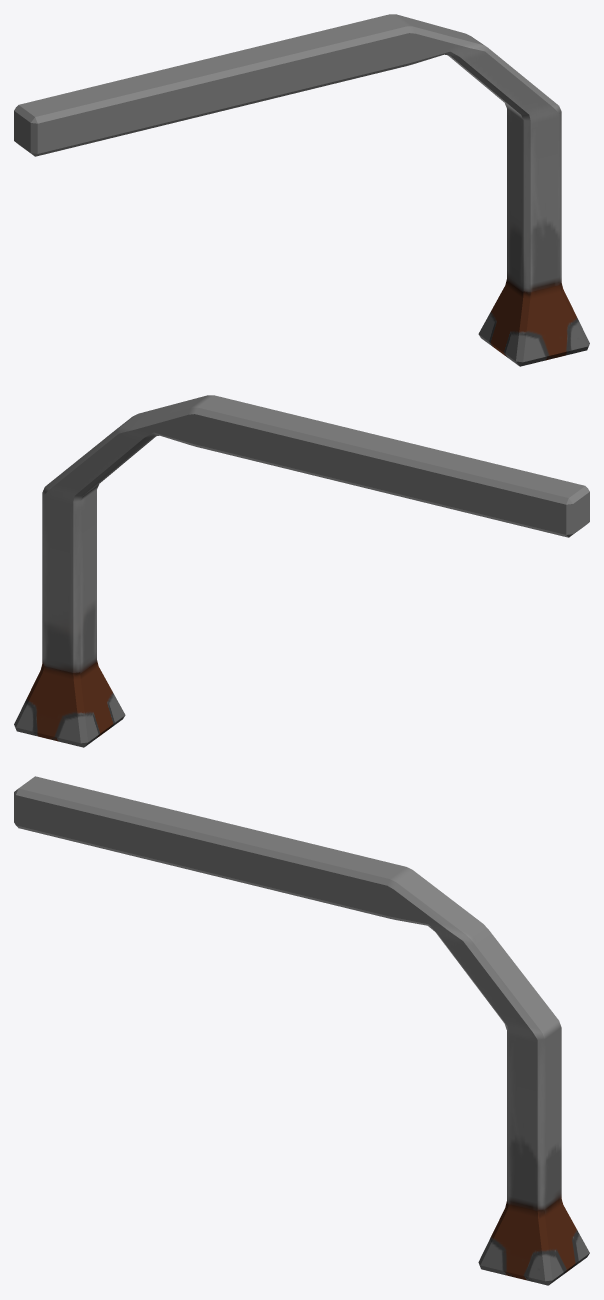
Rendered from Storage_Train_Car_Supports 1.fbx.
The picture shows the model from 3 angles, top to bottom: view 1: azimuth 30°, elevation 25°; view 2: azimuth 150°, elevation 25°; view 3: azimuth 330°, elevation 25°; orthographic projection.
Parts seen in each view (by area): view 1: pCube17; view 2: pCube17; view 3: pCube17.
Part boxes in pixels (x1,y1,x2,y2): pCube17: (14,14,589,366); pCube17: (14,395,589,747); pCube17: (14,776,589,1285).
Size of the model in its own units: 14.48 by 9 by 1.95.
Materials: 1 (1 with a texture image).
